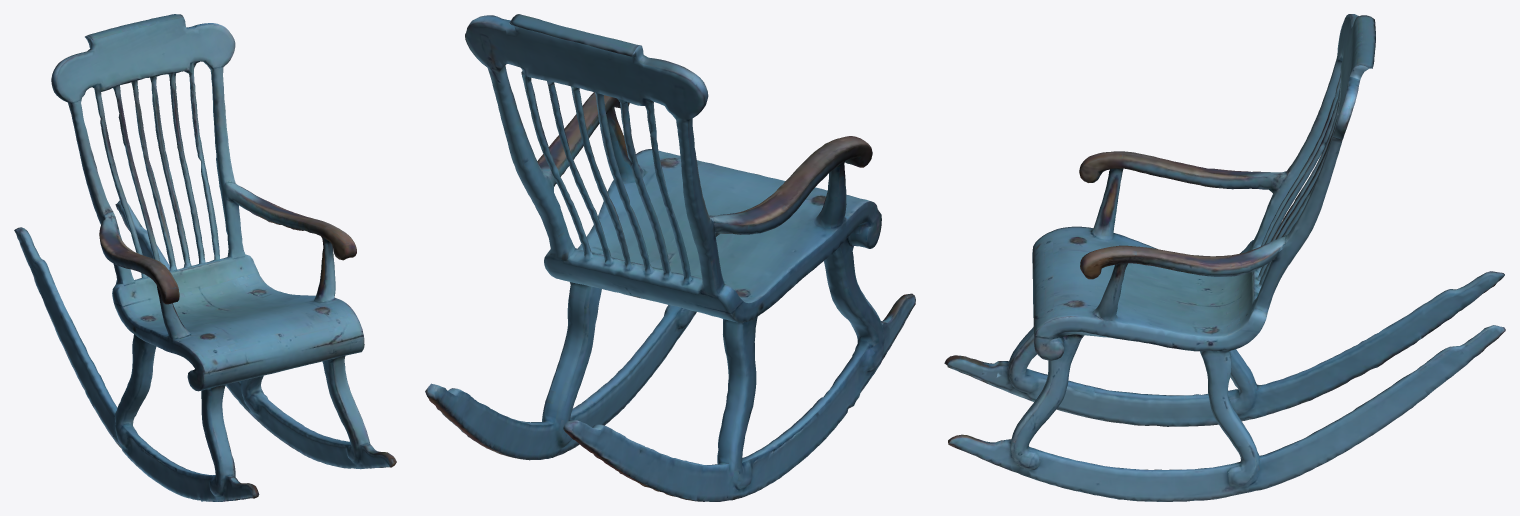
Rendered from chair-transformed.glb.
The picture shows the model from 3 angles, left to right: view 1: azimuth 30°, elevation 25°; view 2: azimuth 150°, elevation 25°; view 3: azimuth 270°, elevation 25°; orthographic projection. The views are drawn at different scales.
Parts seen in each view (by area): view 1: Object_2; view 2: Object_2; view 3: Object_2.
Boxes of the visible parts, box(x1,y1,x2,y2) form: Object_2: box(14, 14, 396, 501); Object_2: box(425, 14, 915, 501); Object_2: box(944, 14, 1505, 501).
Size of the model in its own units: 4.09 by 7.6 by 9.17.
1 material, 1 textured.
